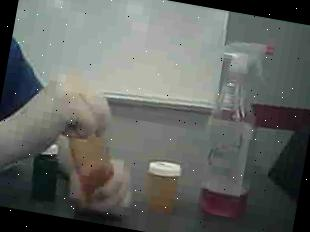Bottle B: (61, 129, 124, 203), (138, 155, 187, 222)
Bottle C: (24, 139, 64, 206)
hazard: (191, 29, 290, 226)
